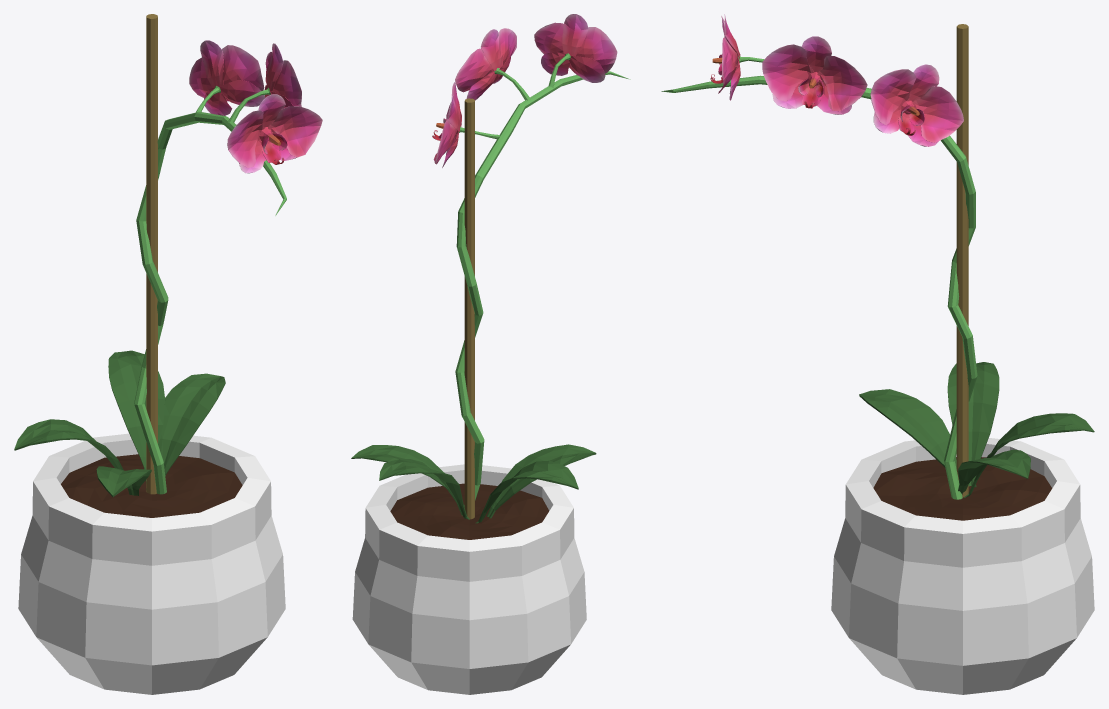
Rendered from Orchid.glb.
3 renders of one model, left to right at view 1: azimuth 30°, elevation 25°; view 2: azimuth 150°, elevation 25°; view 3: azimuth 270°, elevation 25°, orthographic. The views are drawn at different scales.
Visible parts, largest first — view 1: Node; view 2: Node; view 3: Node.
Boxes of the visible parts, x1=… form: Node: x1=14, y1=14, x2=322, y2=694; Node: x1=351, y1=14, x2=630, y2=694; Node: x1=661, y1=14, x2=1094, y2=694.
Size of the model in its own units: 3.17 by 8 by 4.9.
Materials: 6 (1 with a texture image).
